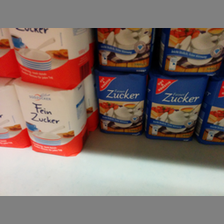sugar: (14, 79, 86, 157), (9, 29, 91, 87), (145, 73, 208, 143), (93, 68, 145, 137), (156, 28, 224, 75), (94, 28, 156, 71)
